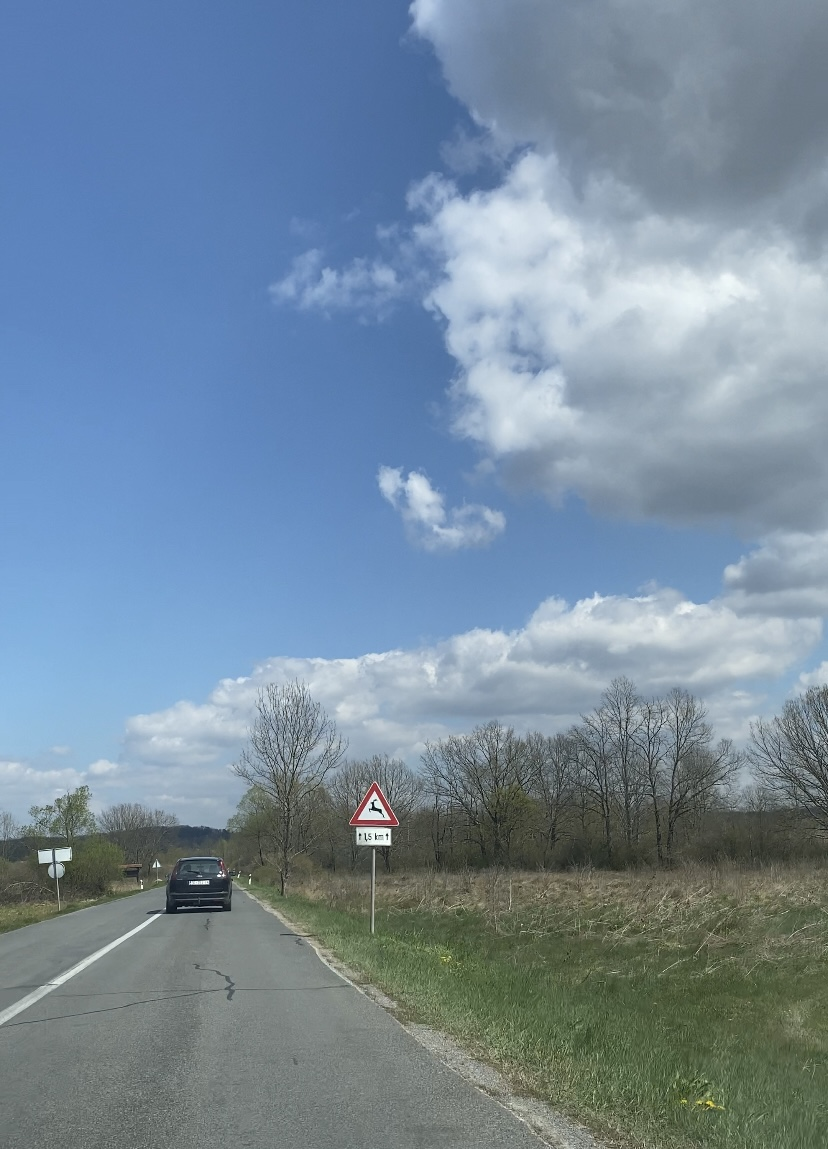Divljač na cesti: (349, 781, 399, 827)
